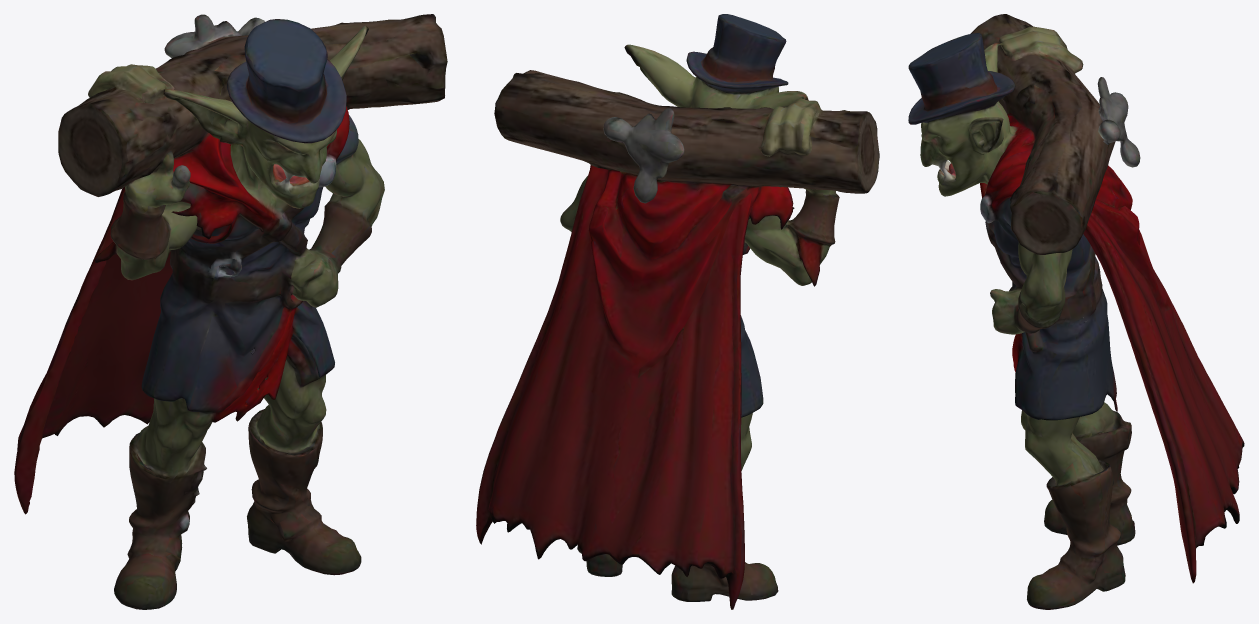
Rendered from grunk_siege.glb.
The picture shows the model from 3 angles, left to right: view 1: azimuth 30°, elevation 25°; view 2: azimuth 150°, elevation 25°; view 3: azimuth 270°, elevation 25°; orthographic projection. The views are drawn at different scales.
Size of the model in its own units: 0.5945 by 0.8646 by 0.5055.
1 material, 1 textured.
